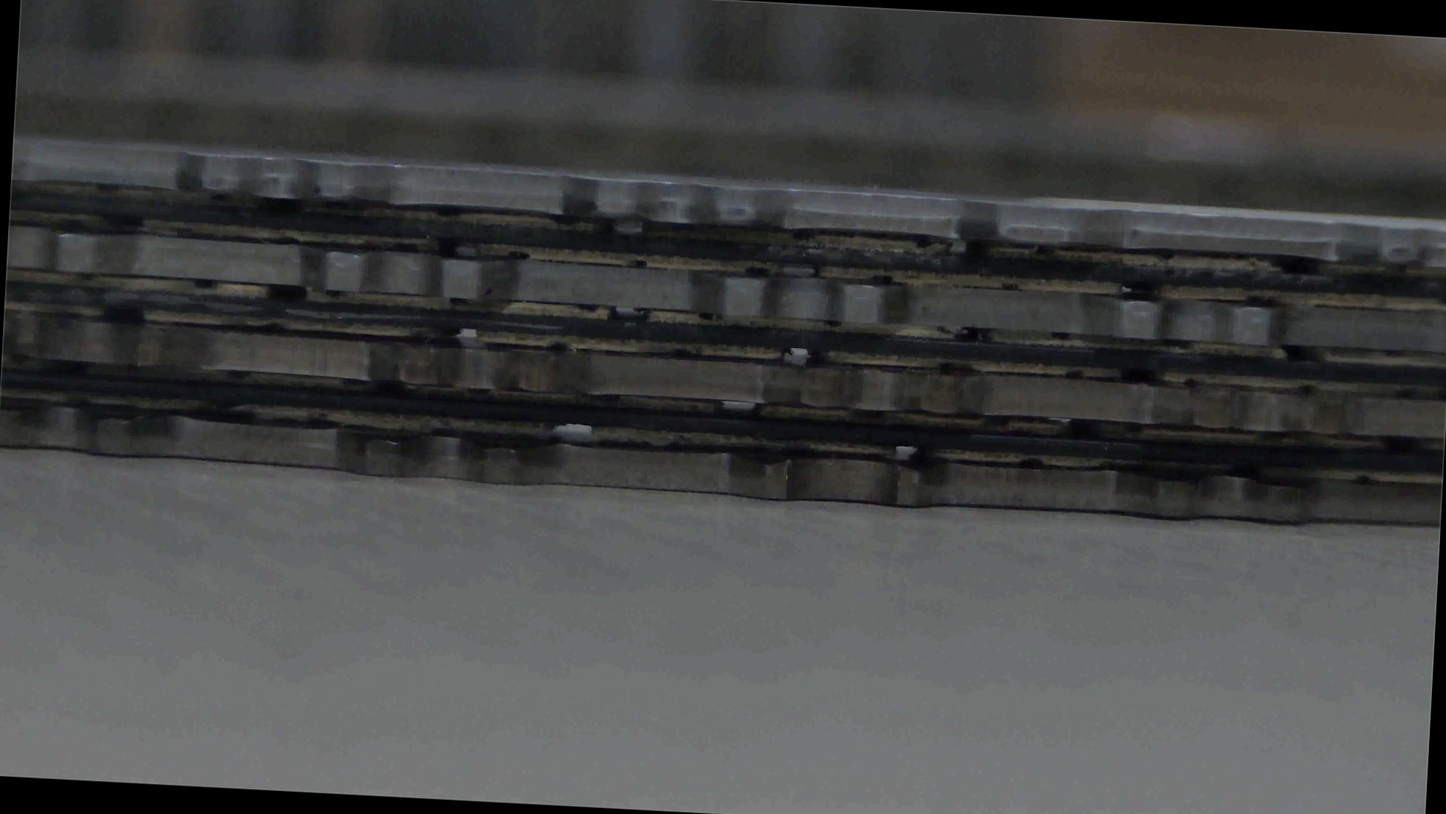Black metal plate: (0, 399, 1442, 528)
shiney metal plate: (0, 138, 1410, 448), (2, 321, 1430, 435), (0, 174, 1445, 231)
spacer: (82, 191, 1420, 762), (3, 213, 1445, 271), (0, 407, 1445, 439)
